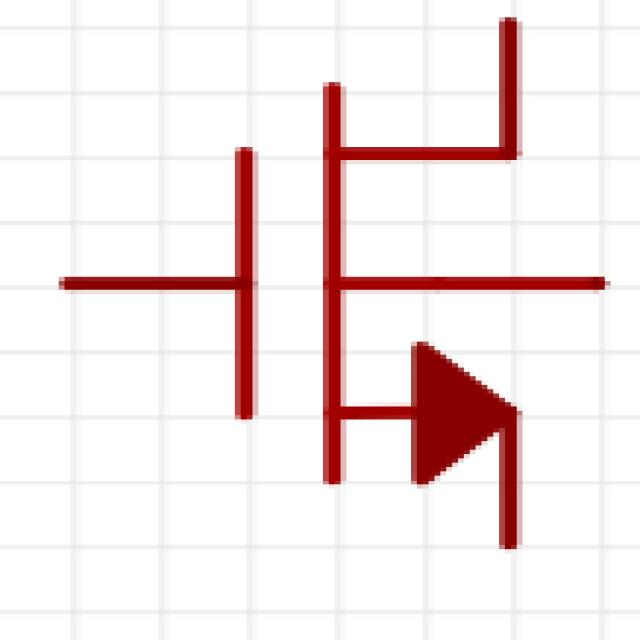nmos: (33, 12, 640, 566)
